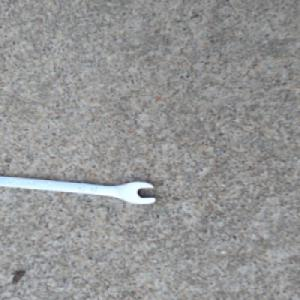Wrench: (0, 173, 160, 205)
